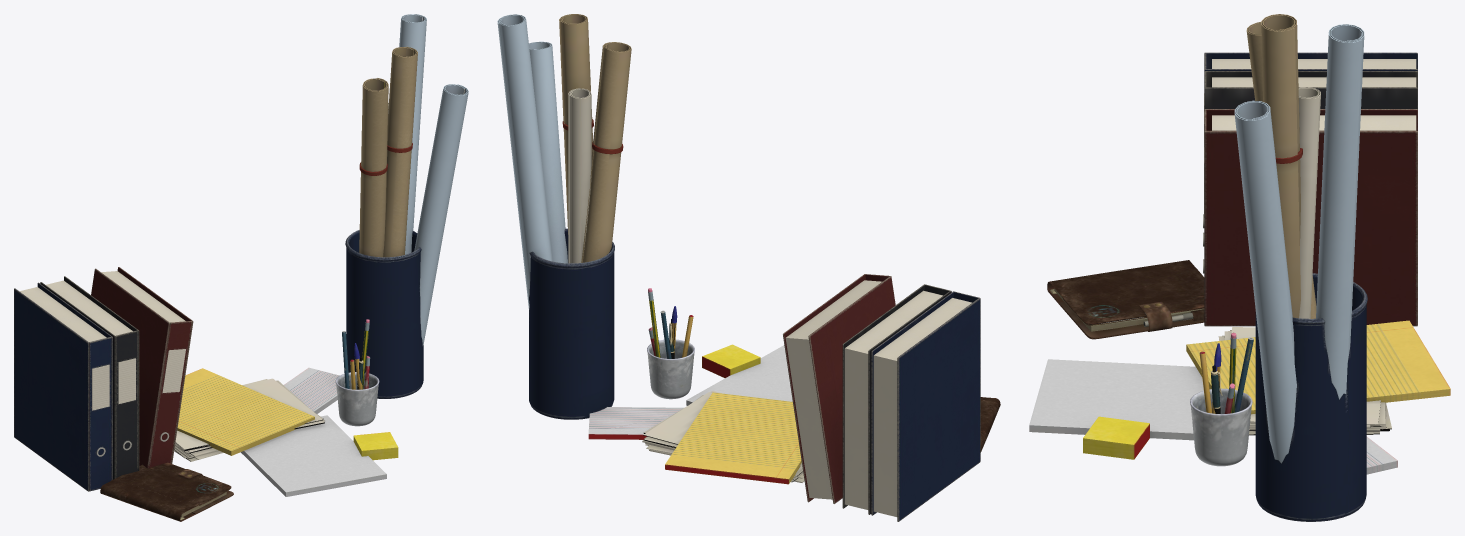
The picture shows the model from 3 angles, left to right: view 1: azimuth 30°, elevation 25°; view 2: azimuth 150°, elevation 25°; view 3: azimuth 270°, elevation 25°; orthographic projection. The views are drawn at different scales.
Parts seen in each view (by area): view 1: studio-desk-clutter; view 2: studio-desk-clutter; view 3: studio-desk-clutter.
Boxes of the visible parts, <box> form: studio-desk-clutter: <box>14,14,468,521</box>; studio-desk-clutter: <box>497,14,1000,521</box>; studio-desk-clutter: <box>1029,14,1450,521</box>.
Size of the model in its own units: 0.8744 by 0.736 by 0.563.
Materials: 1 (1 with a texture image).
